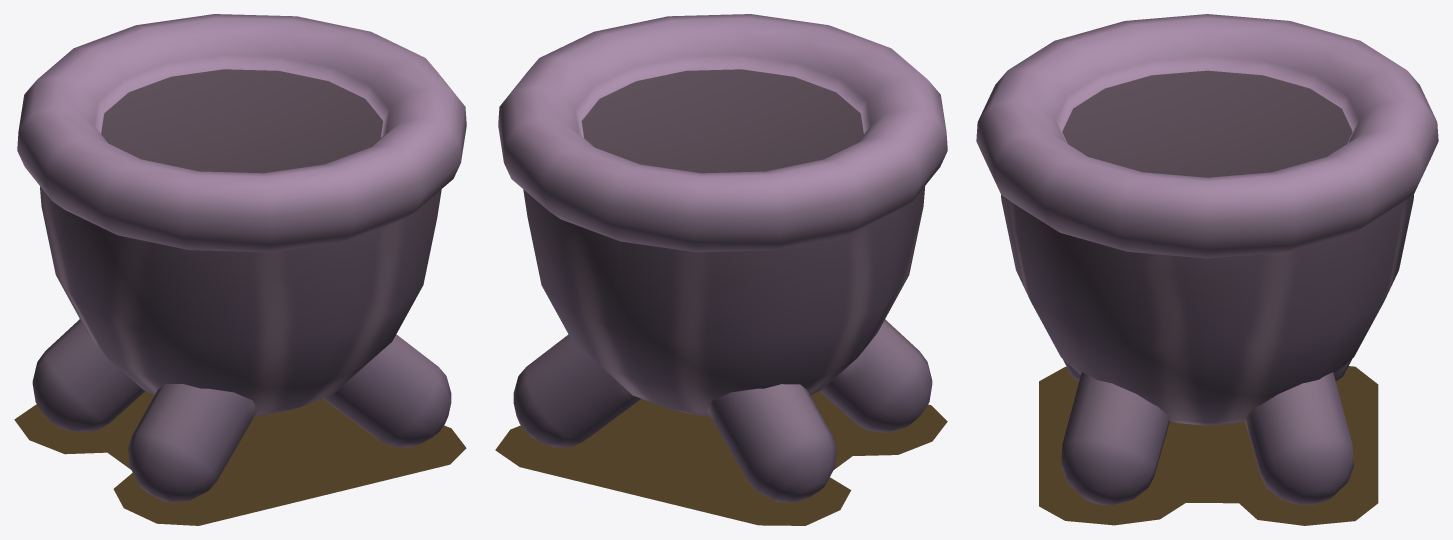
The model's file is firepit_base.fbx.
3 views of the same model, side by side, from view 1: azimuth 30°, elevation 25°; view 2: azimuth 150°, elevation 25°; view 3: azimuth 270°, elevation 25° (orthographic).
Visible parts, largest first — view 1: pSphere43, polySurface71; view 2: pSphere43, polySurface71; view 3: pSphere43, polySurface71.
Part boxes in pixels (left/top/right/bottom): pSphere43: left=17, top=14, right=466, bottom=502; polySurface71: left=14, top=391, right=466, bottom=525; pSphere43: left=498, top=14, right=947, bottom=502; polySurface71: left=495, top=391, right=947, bottom=525; pSphere43: left=976, top=14, right=1438, bottom=505; polySurface71: left=1039, top=366, right=1378, bottom=525.
Size of the model in its own units: 129 by 106 by 129.
